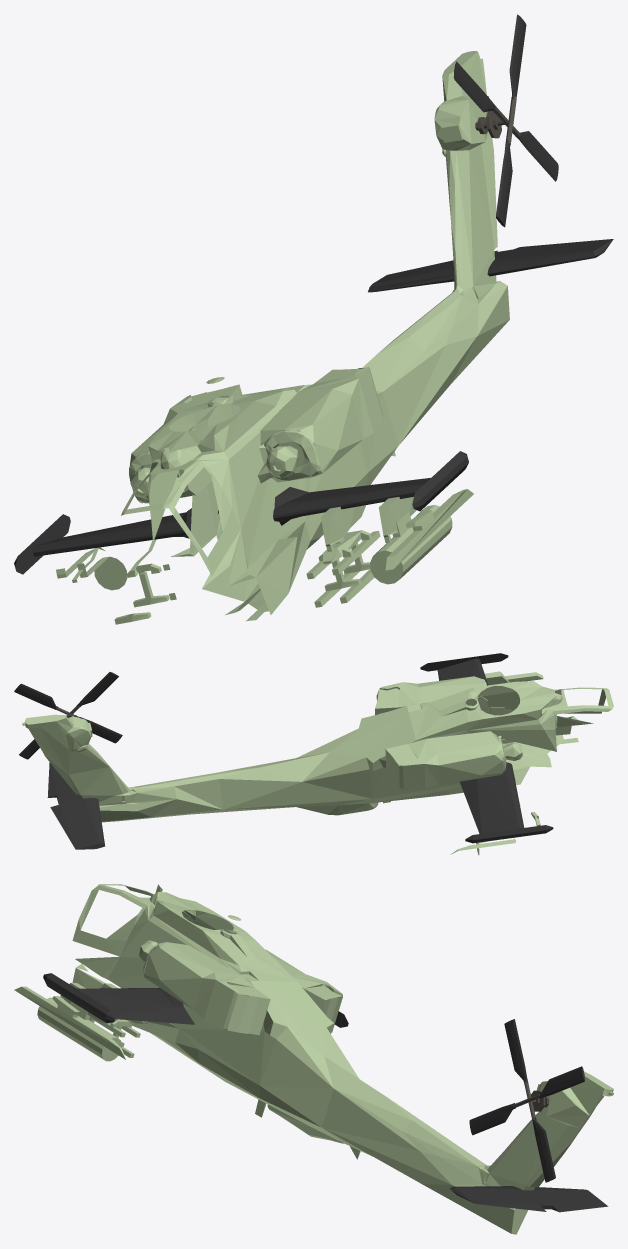
File: 06 Broken_helicopter2.FBX
3 views of the same model, one above another, from view 1: azimuth 30°, elevation 25°; view 2: azimuth 150°, elevation 25°; view 3: azimuth 270°, elevation 25° (orthographic). The views are drawn at different scales.
Parts seen in each view (by area): view 1: Broken_helicopter1; view 2: Broken_helicopter1; view 3: Broken_helicopter1.
Boxes of the visible parts, x1=… form: Broken_helicopter1: x1=14, y1=14, x2=613, y2=624; Broken_helicopter1: x1=14, y1=653, x2=613, y2=855; Broken_helicopter1: x1=14, y1=884, x2=613, y2=1234.
Bounding box in the file's own units: 3615 × 1424 × 3501.
